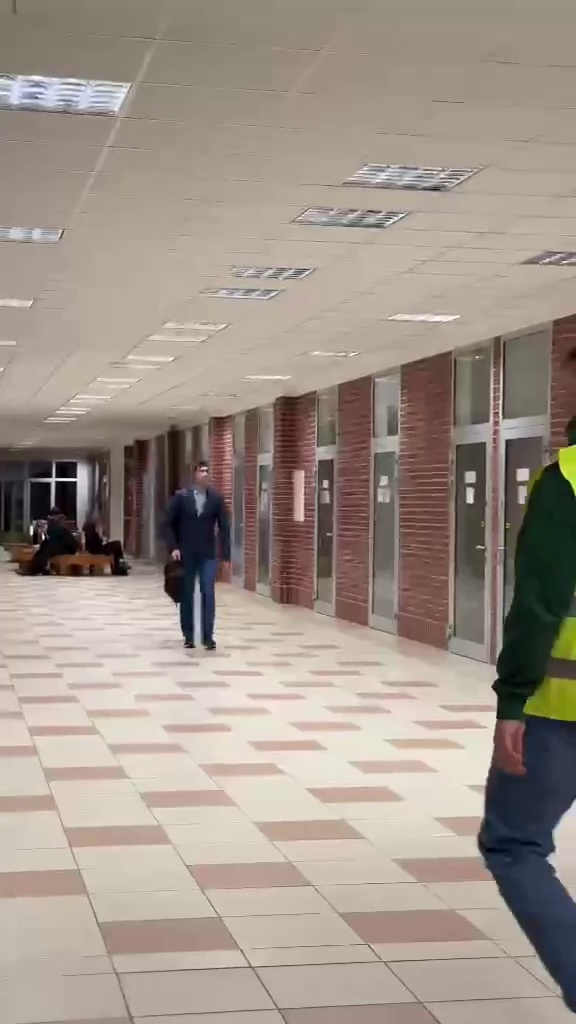no vest: (162, 453, 234, 655)
vest: (486, 394, 576, 978)
